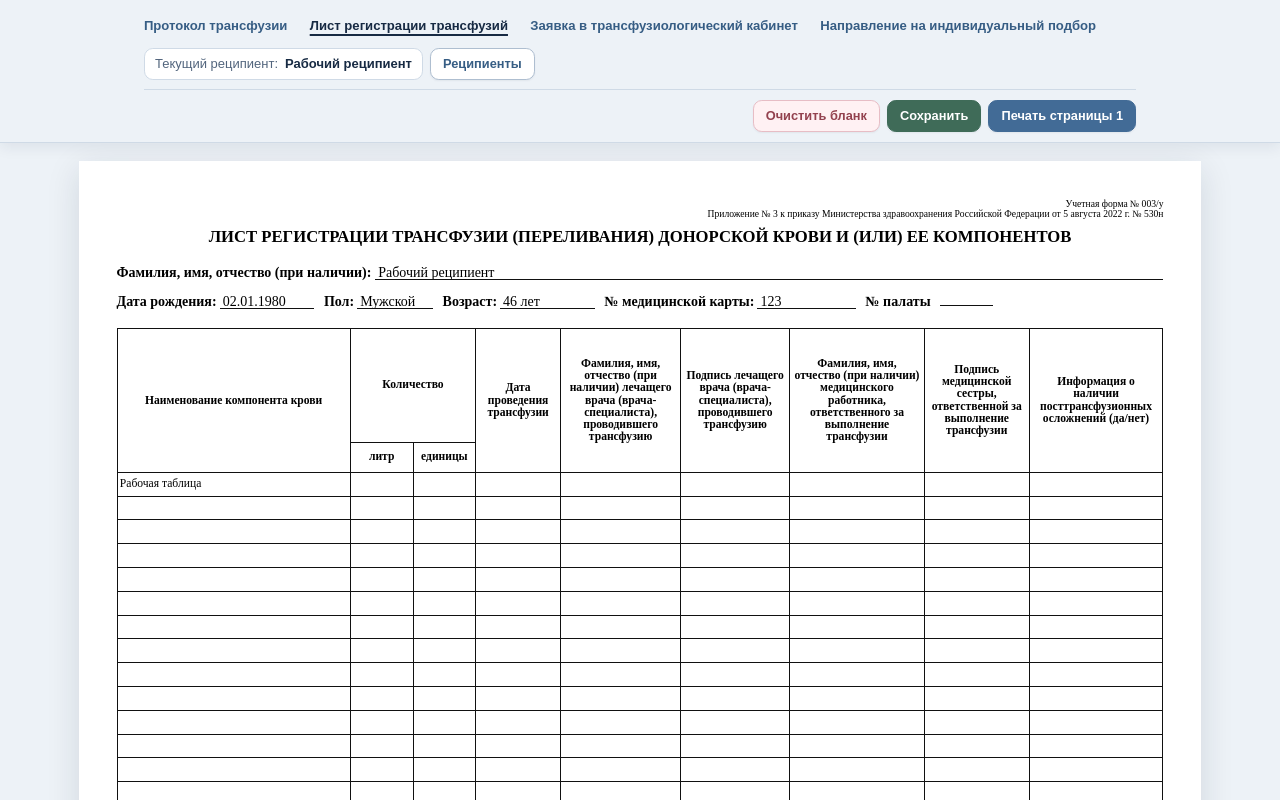
Test case: keeps all non-table data when saving a working sheet and returning to it
Click the button "Сохранить".
click(934, 116)  # box [887,100,981,132]
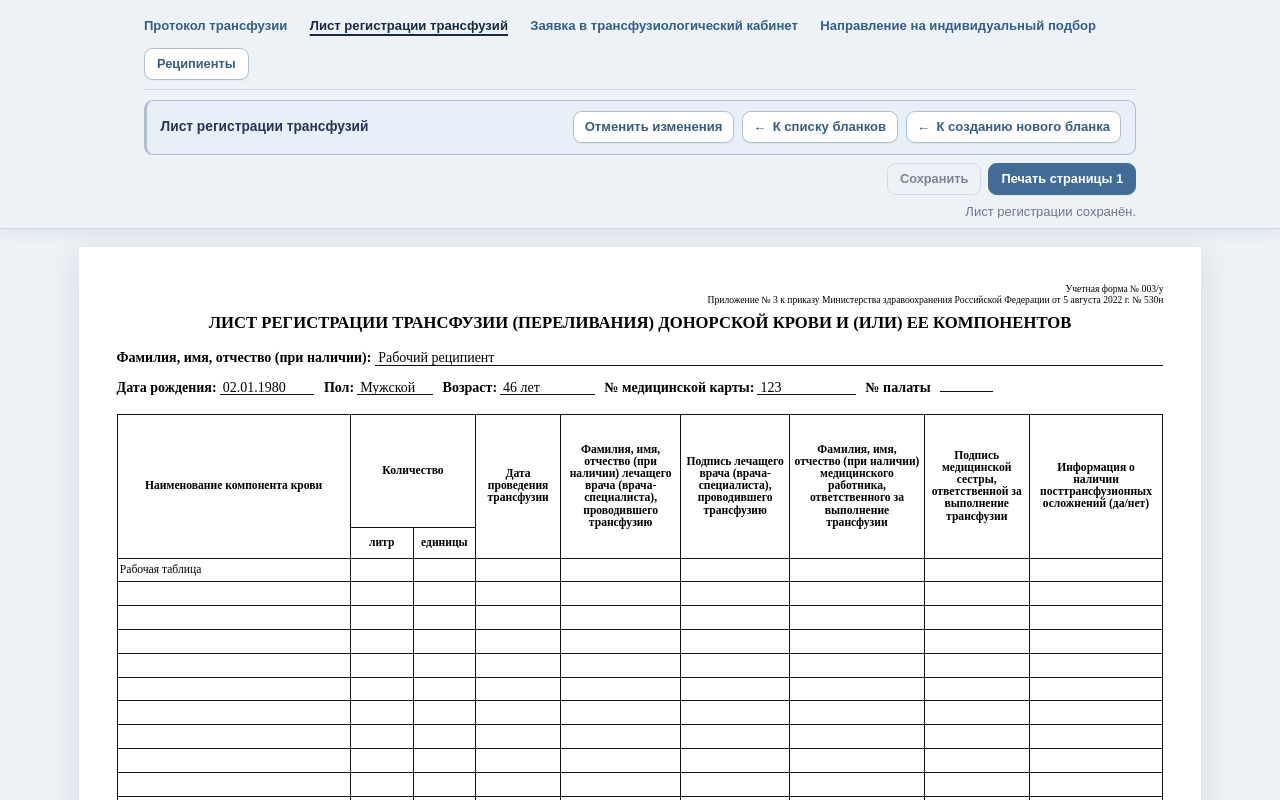
Expected: the text "Рабочая таблица" is shown, [117,561,350,585]
Result: the button "← К созданию нового бланка" is shown
Result: the button "Сохранить" is disabled at [887,163,981,195]
Click the button "← К созданию нового бланка".
click(1013, 127)  # box [906,111,1121,143]
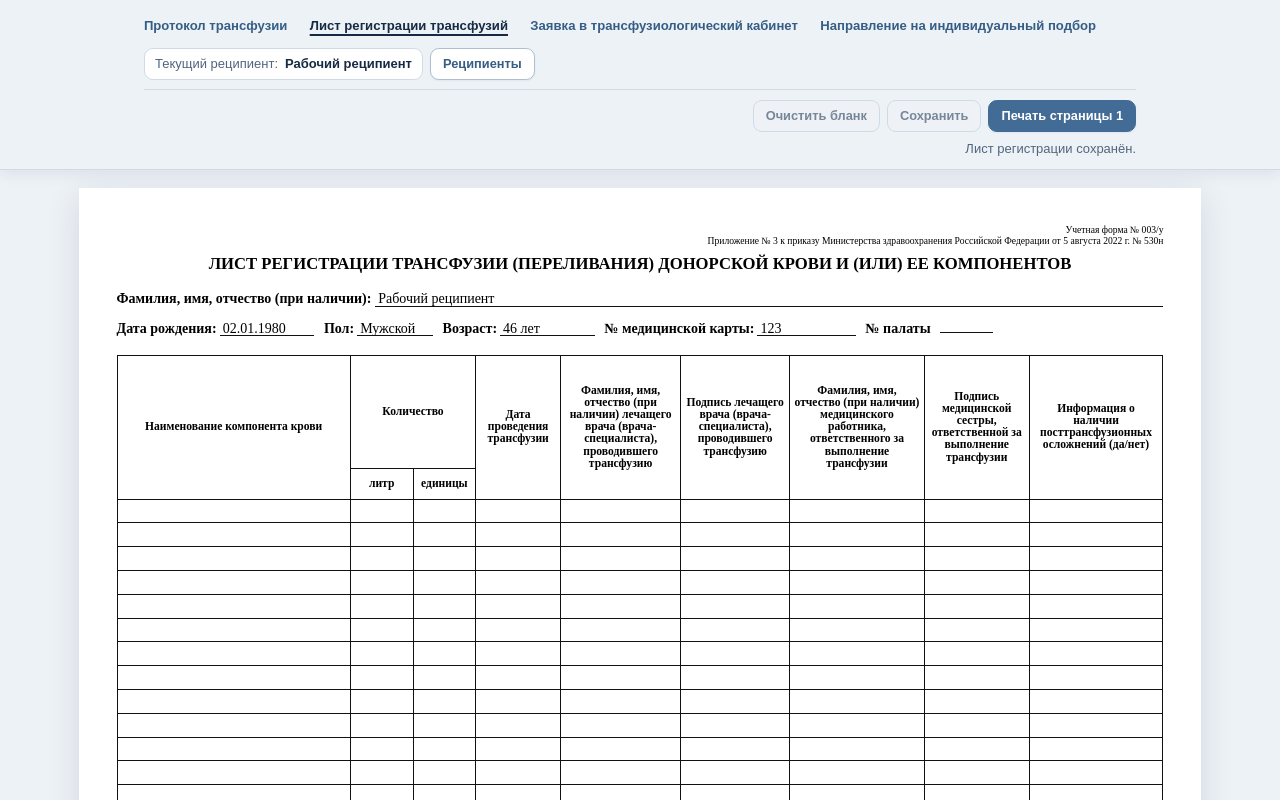
Result: the text "Рабочая таблица" is gone
